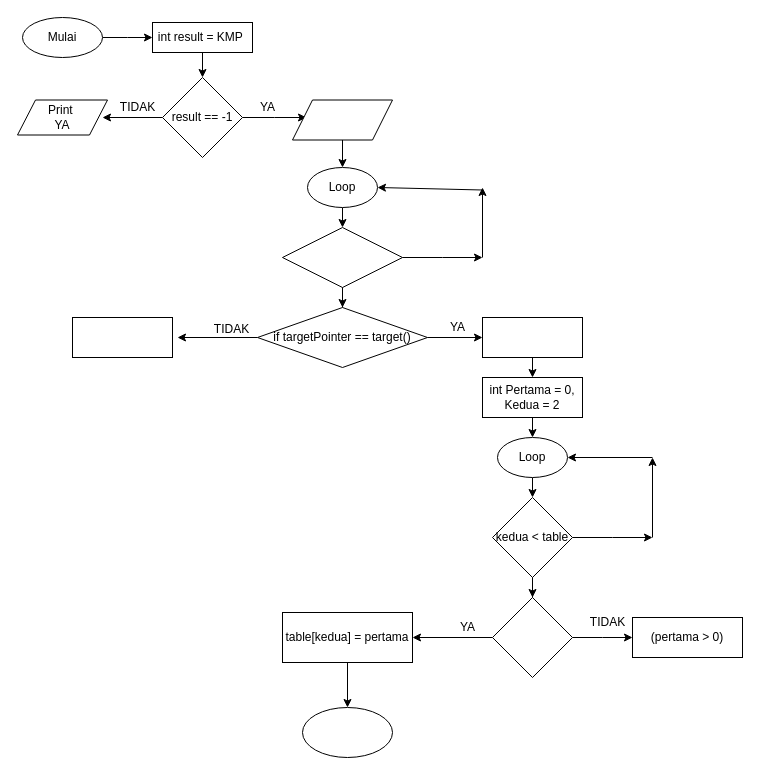
The diagram is 760 pixels wide and 775 high, and some of its shapes have lost their labels. Here are the shapes that lost their labels. From the top down, the centre of each, then its label:
At point 342,119: "Print TIDAK".
At point 342,257: "cariPointer < cari()".
At point 122,337: "targetPointer = failureTable".
At point 532,337: "int x = target() + 1".
At point 532,637: "if kedua < table".
At point 347,732: "Selesai".
